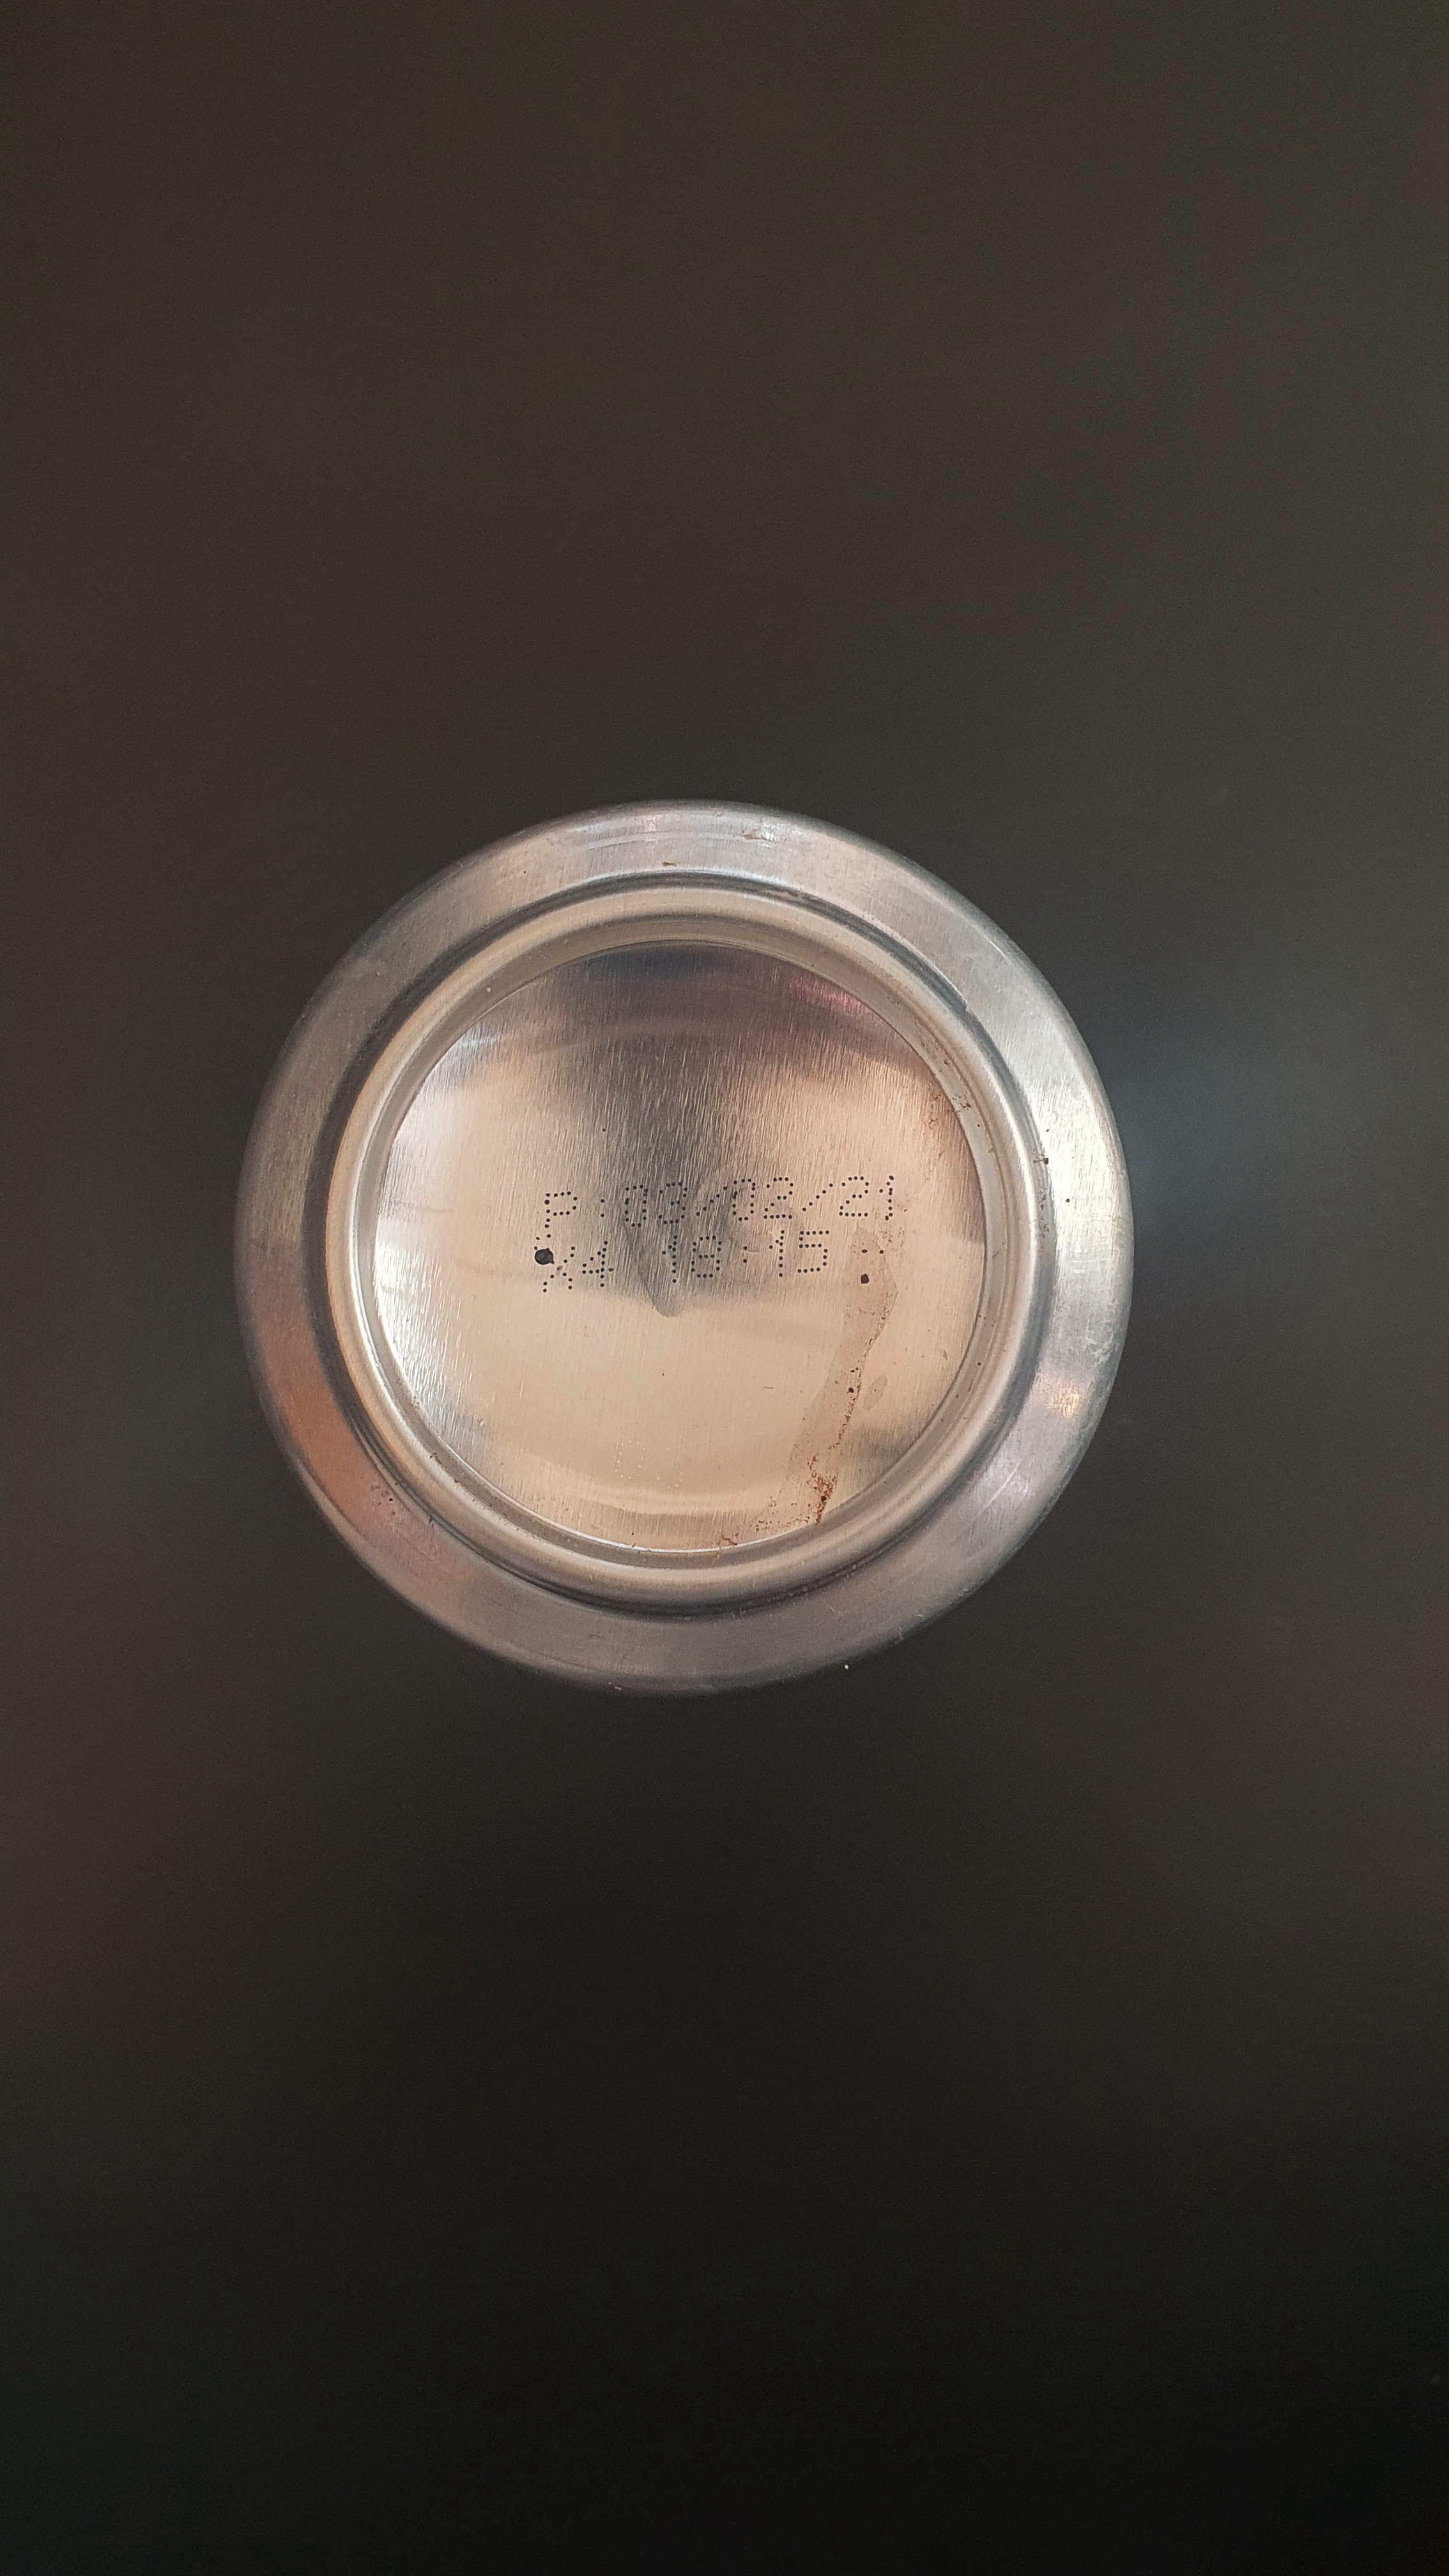metal: (186, 747, 1205, 1746)
